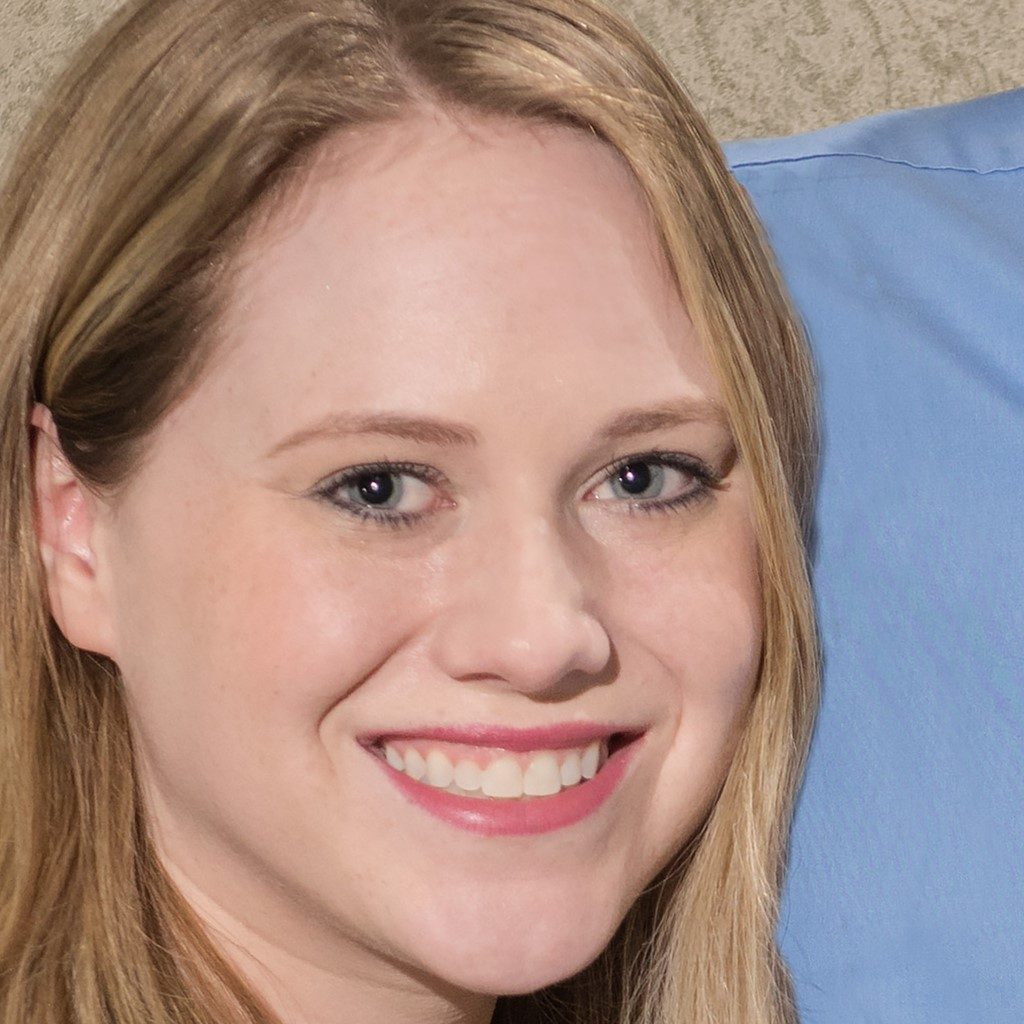sin_mascara: (87, 114, 766, 1003)
